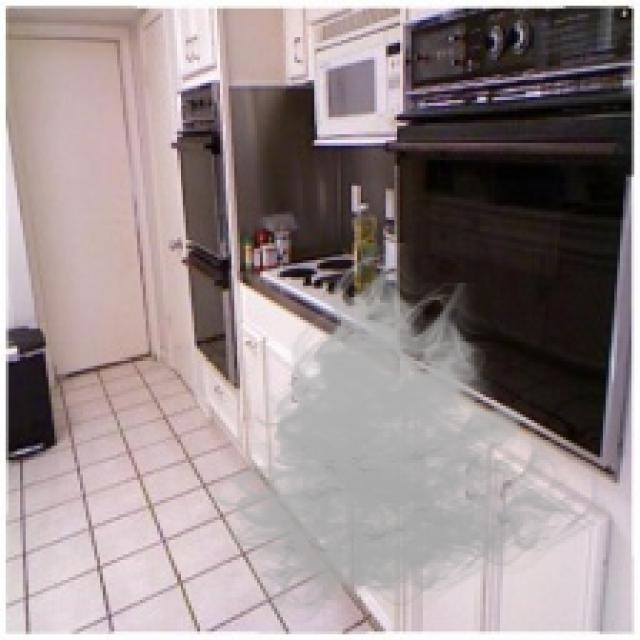smoke: (197, 243, 614, 634)
